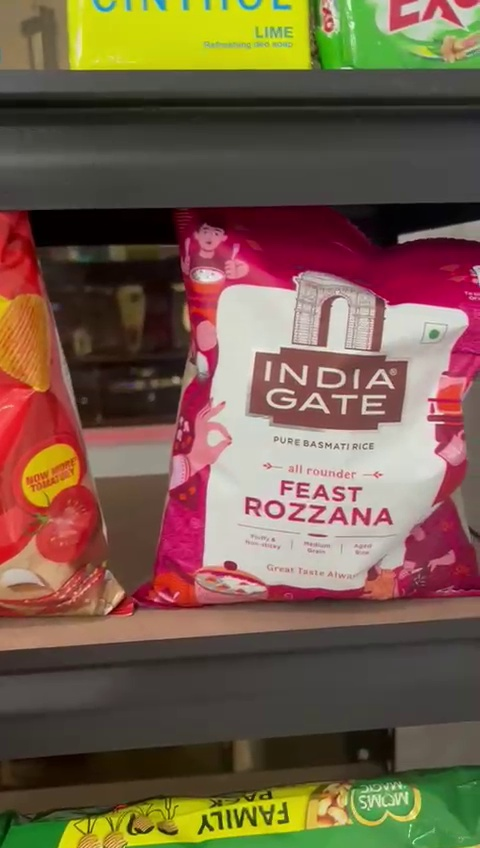Harpic: (171, 211, 480, 603)
